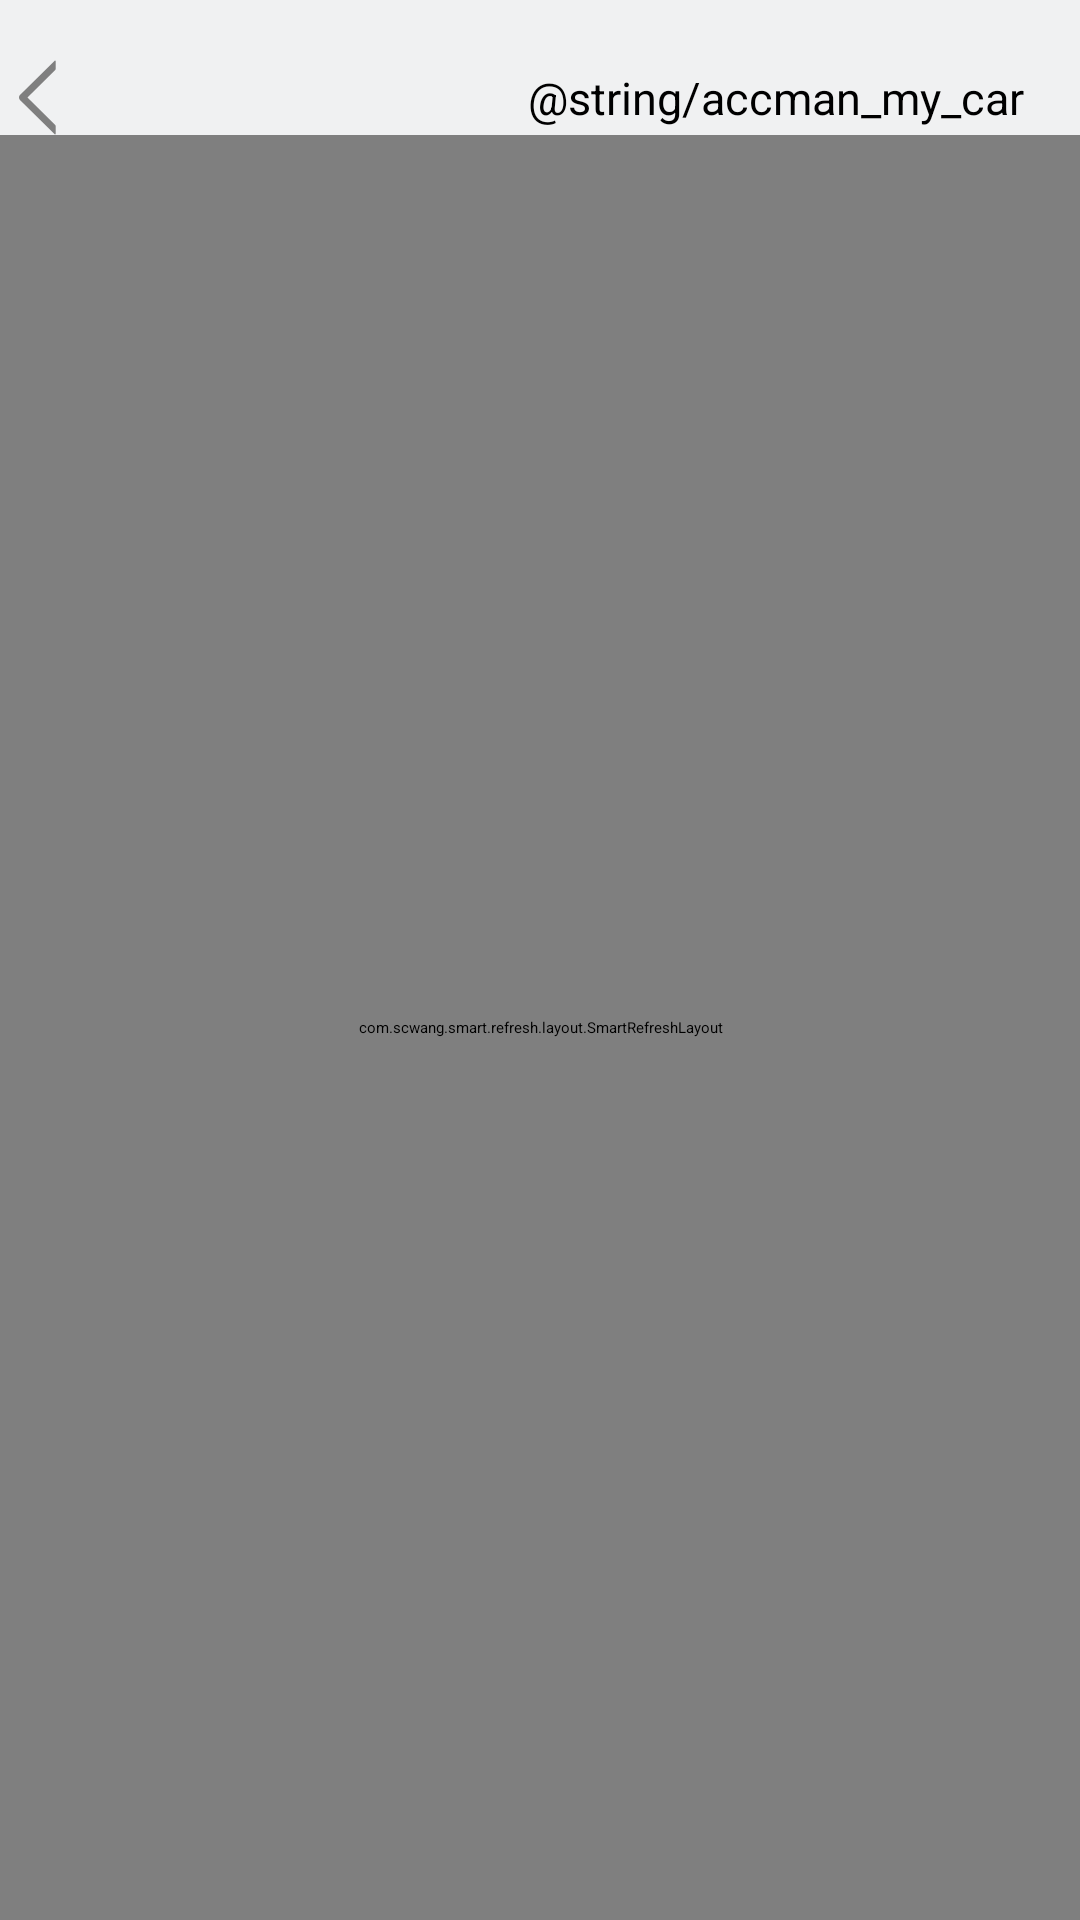

Named icons in this screenshot (1080px x 1920px) and their centers, (x=x, y=y):
back: (x=37, y=97)
